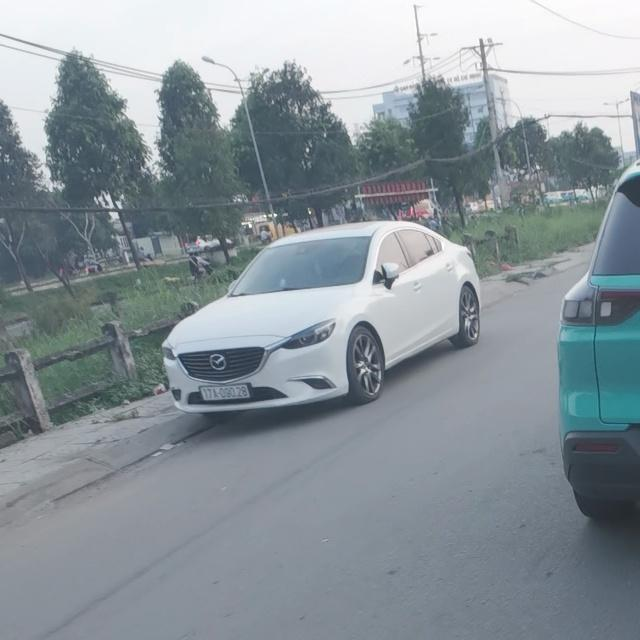license-plate: (199, 384, 249, 400)
